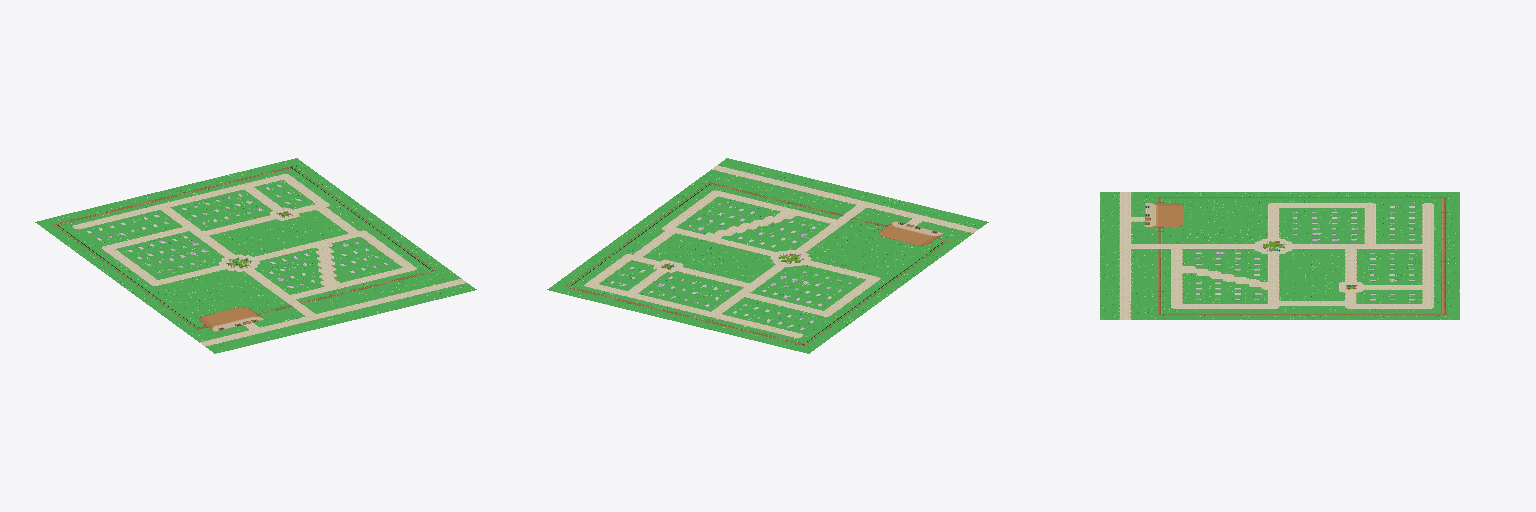
3 renders of one model, left to right at view 1: azimuth 30°, elevation 25°; view 2: azimuth 150°, elevation 25°; view 3: azimuth 270°, elevation 25°, orthographic.
Parts seen in each view (by area): view 1: Grid_Grid.001; view 2: Grid_Grid.001; view 3: Grid_Grid.001.
Boxes of the visible parts, <box> form: Grid_Grid.001: <box>35,158,476,353</box>; Grid_Grid.001: <box>547,158,988,353</box>; Grid_Grid.001: <box>1100,192,1459,319</box>.
Bounding box in the file's own units: 30.08 × 0 × 35.84.
1 materials, 1 textured.